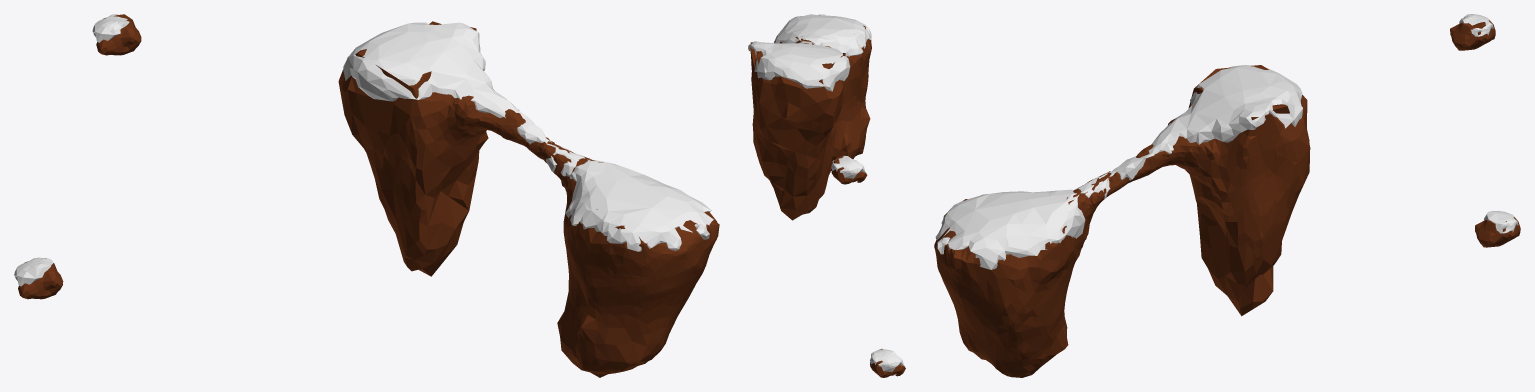
File: Tre_Isola2.fbx
3 views of the same model, side by side, from view 1: azimuth 30°, elevation 25°; view 2: azimuth 150°, elevation 25°; view 3: azimuth 270°, elevation 25° (orthographic). The views are drawn at different scales.
Parts seen in each view (by area): view 1: Plane.035, Plane.036, Sphere.158, Sphere.155, Sphere.156, Sphere.157; view 2: Plane.035, Plane.036, Sphere.156, Sphere.157, Sphere.158, Sphere.155; view 3: Plane.035, Plane.036, Sphere.158, Sphere.155, Sphere.156.
Boxes of the visible parts, bbox=[...] form: Plane.035: bbox=[338, 21, 719, 377]; Plane.036: bbox=[343, 22, 713, 251]; Sphere.158: bbox=[96, 14, 141, 55]; Sphere.155: bbox=[18, 258, 63, 299]; Sphere.156: bbox=[14, 257, 53, 286]; Sphere.157: bbox=[92, 14, 129, 42]; Plane.035: bbox=[750, 25, 871, 220]; Plane.036: bbox=[748, 14, 871, 91]; Sphere.156: bbox=[870, 349, 903, 375]; Sphere.157: bbox=[831, 156, 865, 181]; Sphere.158: bbox=[831, 155, 867, 184]; Sphere.155: bbox=[870, 349, 905, 377]; Plane.035: bbox=[934, 65, 1310, 377]; Plane.036: bbox=[935, 65, 1302, 269]; Sphere.158: bbox=[1450, 20, 1495, 50]; Sphere.155: bbox=[1475, 217, 1520, 247]; Sphere.156: bbox=[1484, 210, 1518, 233].
Bounding box in the file's own units: 190 × 122 × 235.
